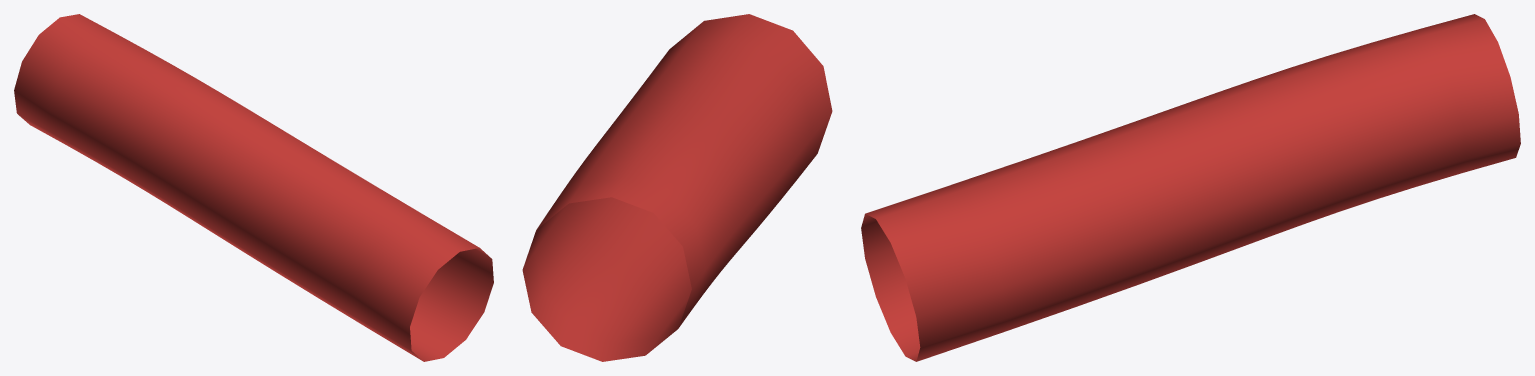
The picture shows the model from 3 angles, left to right: view 1: azimuth 30°, elevation 25°; view 2: azimuth 150°, elevation 25°; view 3: azimuth 270°, elevation 25°; orthographic projection. The views are drawn at different scales.
Visible parts, largest first — view 1: 右侧骨间总动脉; view 2: 右侧骨间总动脉; view 3: 右侧骨间总动脉.
Part boxes in pixels (<box>): 右侧骨间总动脉: <box>14,14,493,361</box>; 右侧骨间总动脉: <box>522,14,832,361</box>; 右侧骨间总动脉: <box>861,14,1520,361</box>.
Size of the model in its own units: 0.00739 by 0.00567 by 0.0136.
